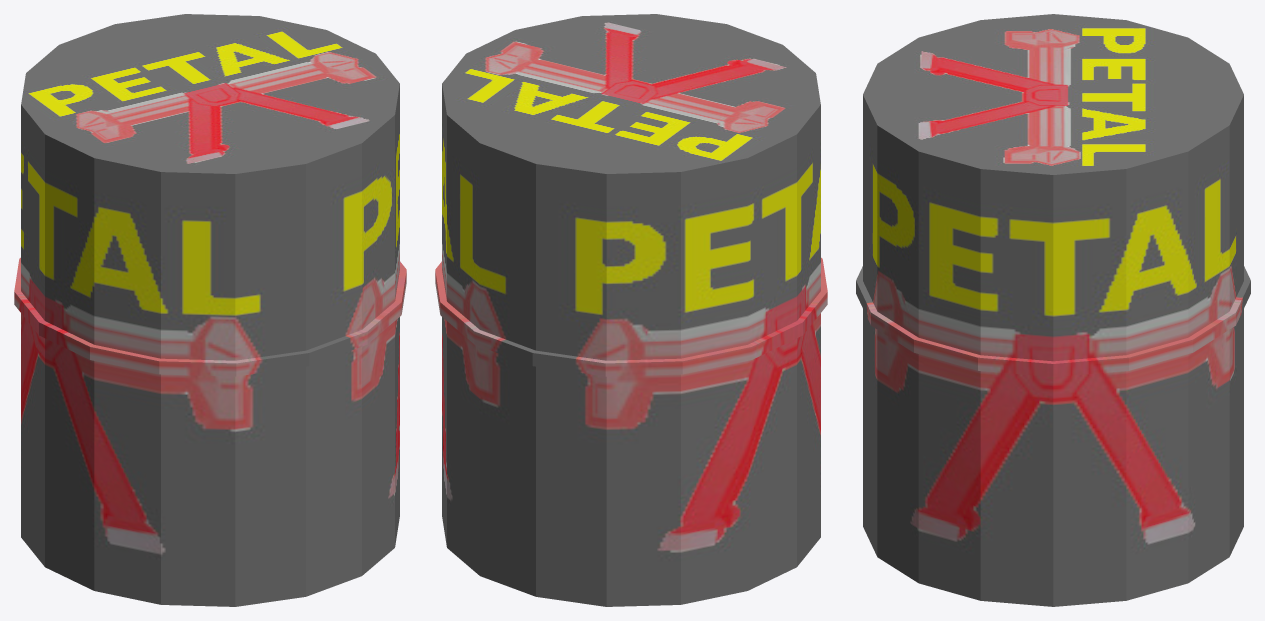
Rendered from baril-mobile.glb.
3 renders of one model, left to right at view 1: azimuth 30°, elevation 25°; view 2: azimuth 150°, elevation 25°; view 3: azimuth 270°, elevation 25°, orthographic.
Visible parts, largest first — view 1: baril; view 2: baril; view 3: baril.
Boxes of the visible parts, box(x1,y1,x2,y2) form: baril: box(14, 14, 406, 606); baril: box(435, 14, 827, 606); baril: box(856, 14, 1250, 606).
Bounding box in the file's own units: 0.8288 × 1 × 0.8288.
1 material, 1 textured.
